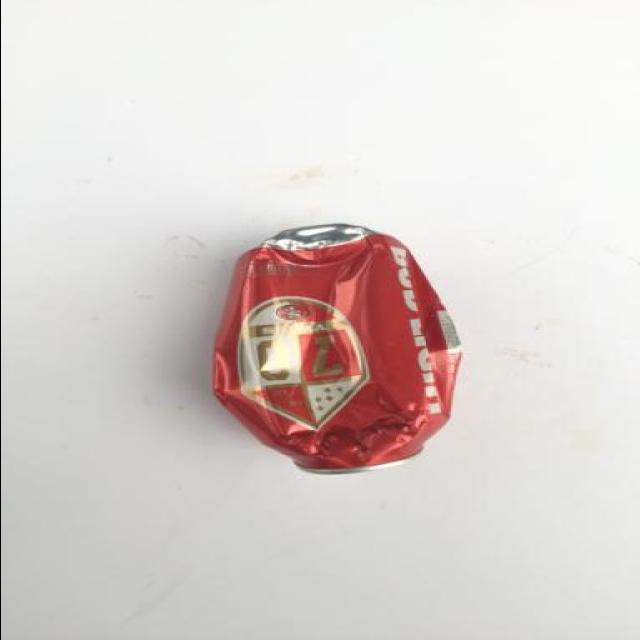litter: (186, 206, 488, 502)
